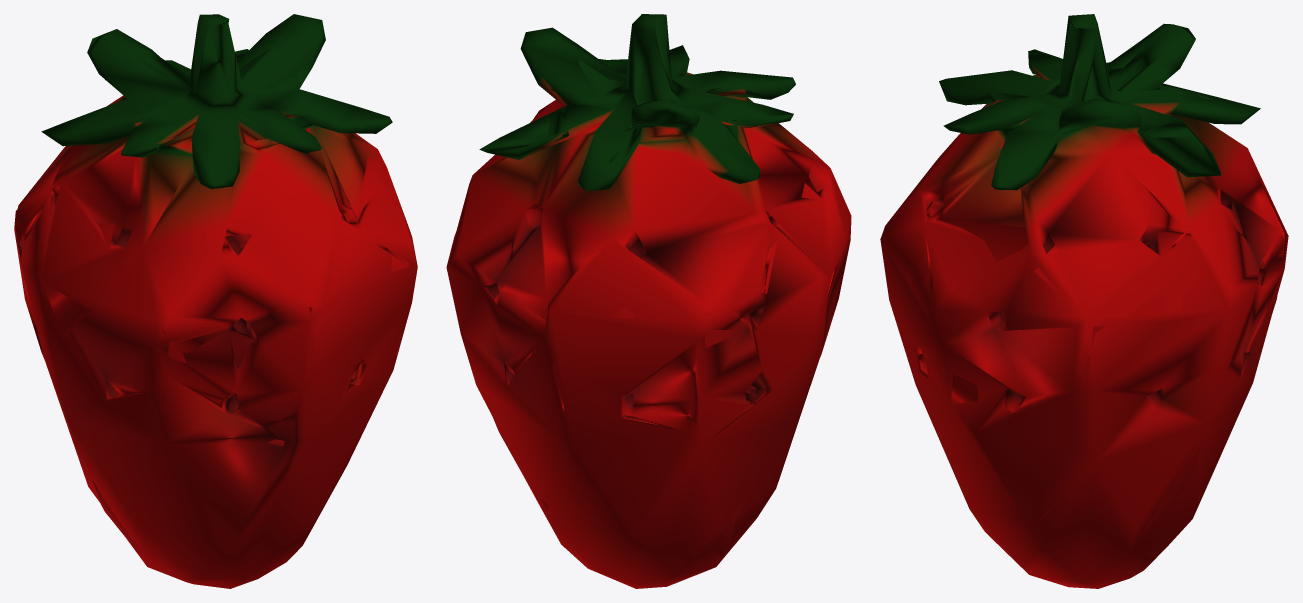
File: gen3d-strawberry-lod1.glb
3 views of the same model, side by side, from view 1: azimuth 30°, elevation 25°; view 2: azimuth 150°, elevation 25°; view 3: azimuth 270°, elevation 25° (orthographic).
Visible parts, largest first — view 1: part_0; view 2: part_0; view 3: part_0.
Part boxes in pixels (bbox=[...]): part_0: bbox=[14, 14, 417, 588]; part_0: bbox=[446, 14, 851, 588]; part_0: bbox=[880, 14, 1288, 588].
Bounding box in the file's own units: 0.653 × 0.996 × 0.6529.
